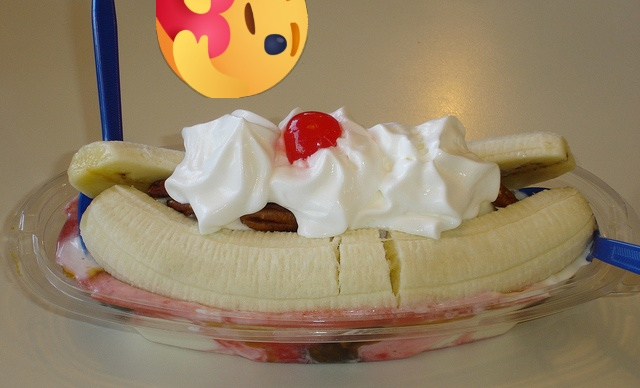care: (156, 0, 308, 98)
